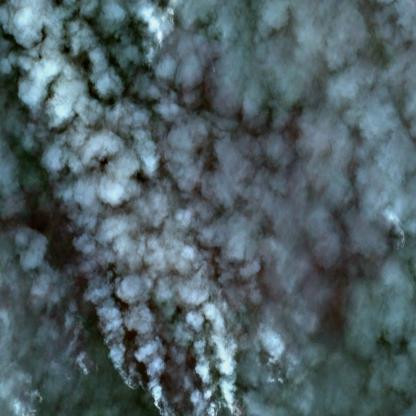fire: (31, 333, 285, 416), (136, 11, 203, 51), (386, 215, 411, 254)
